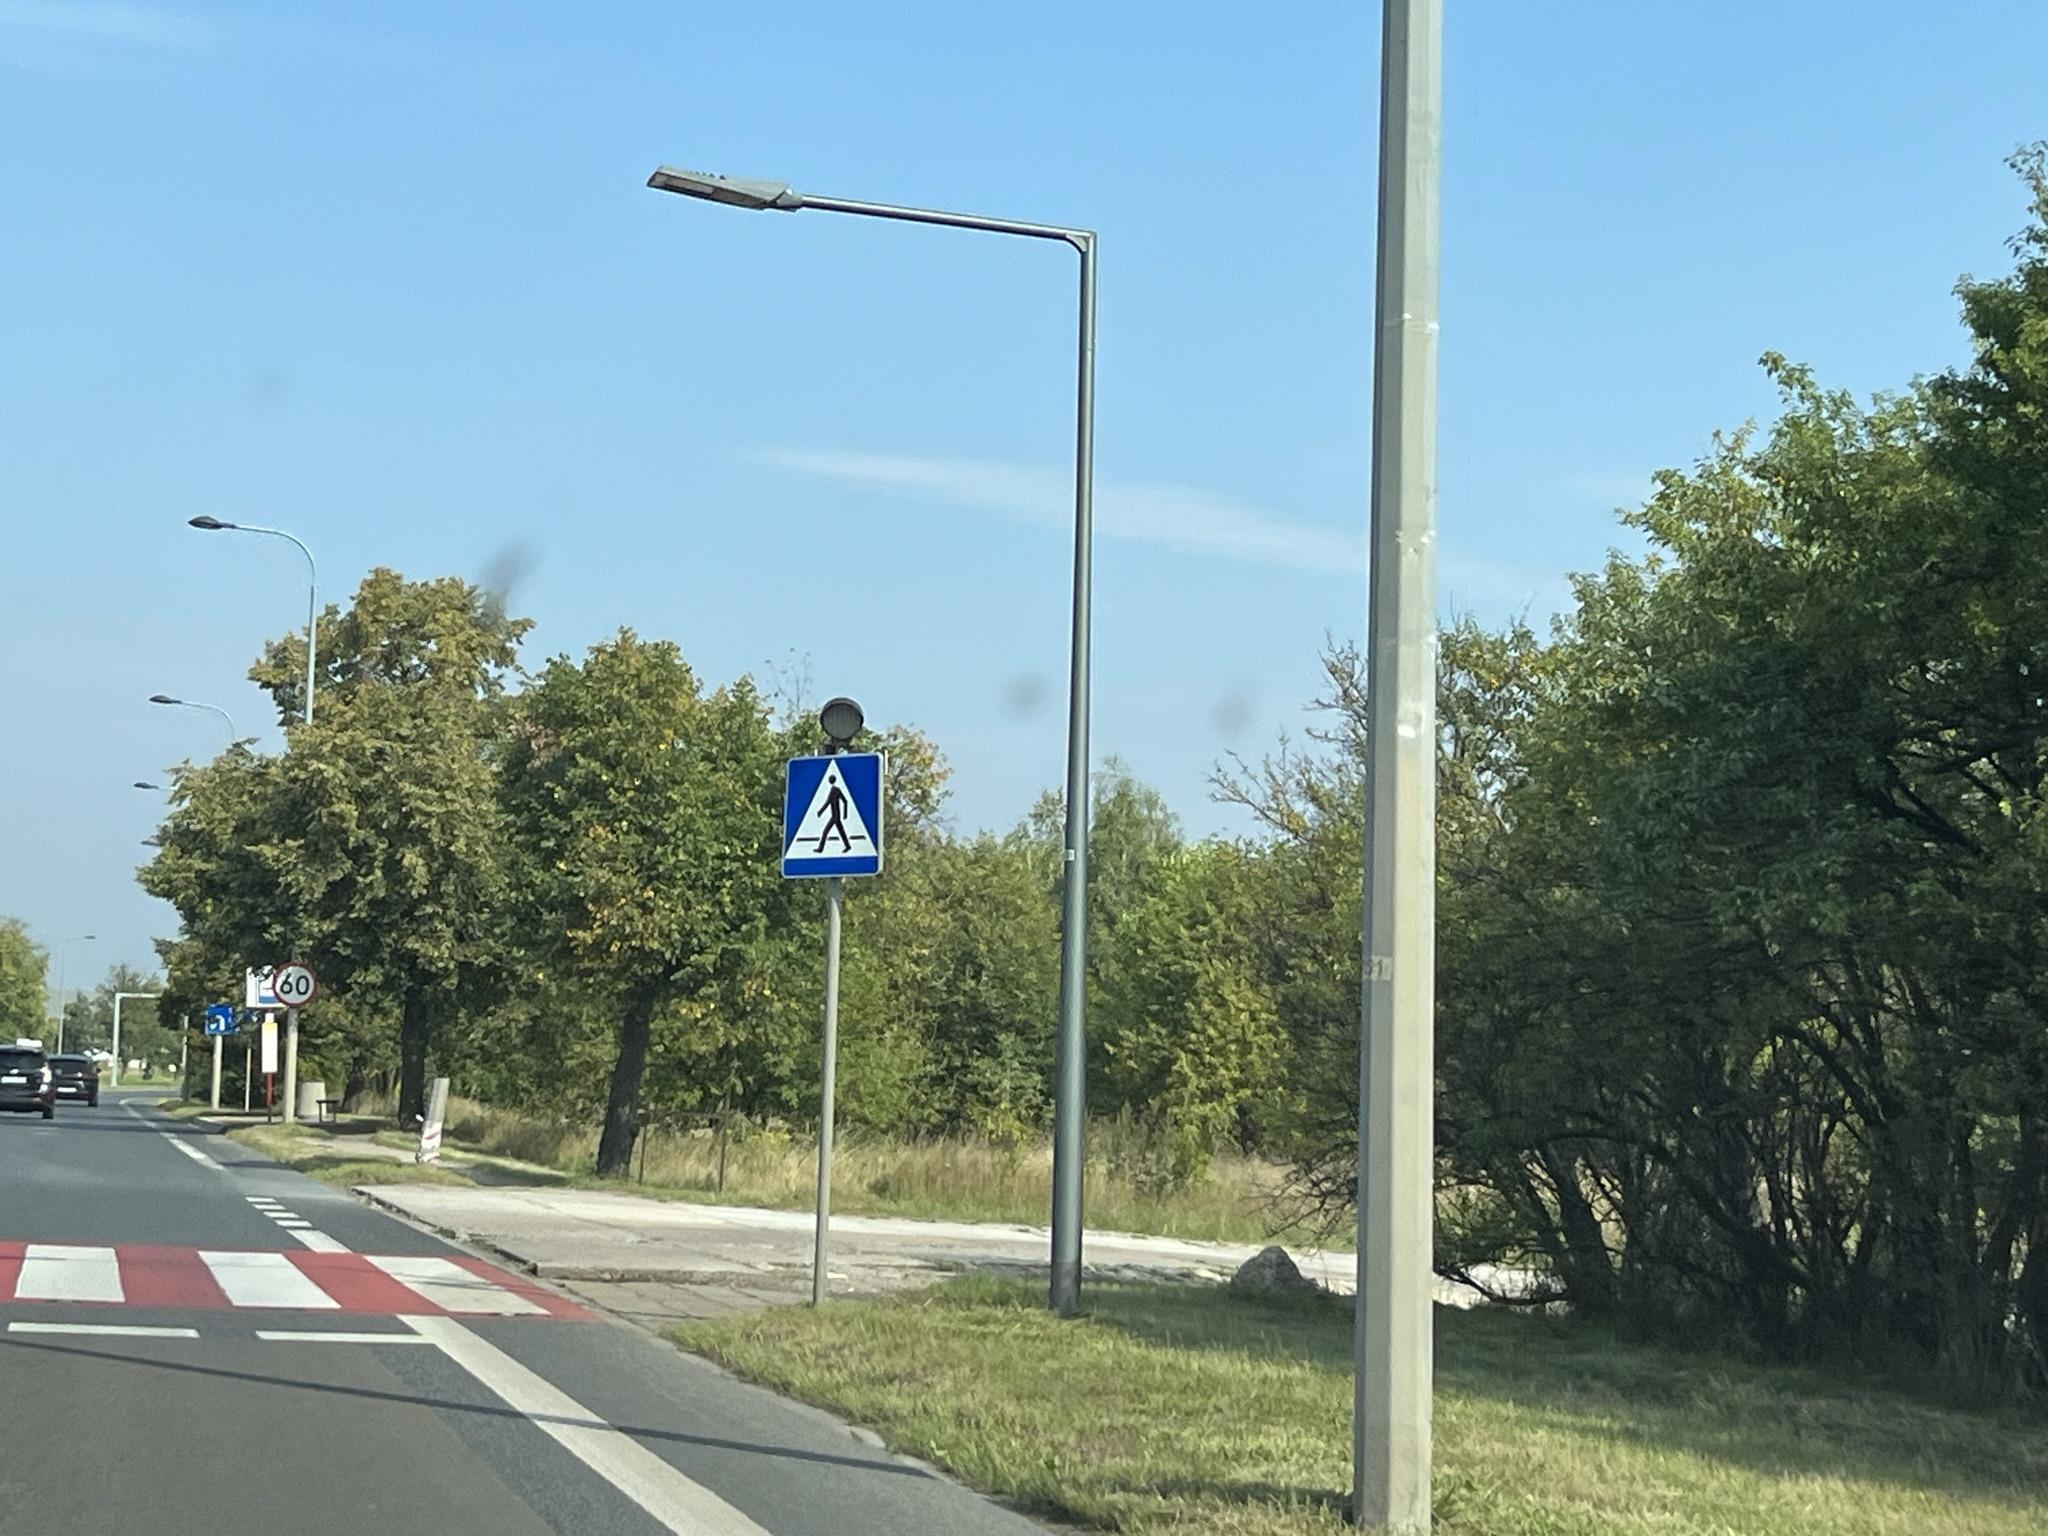information: (780, 749, 889, 884)
other: (205, 1000, 244, 1037)
prohibitory: (273, 963, 318, 1010)
